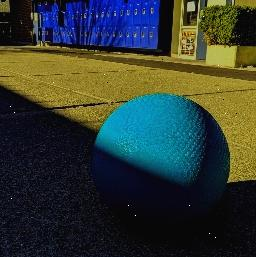algae: (90, 88, 233, 222)
